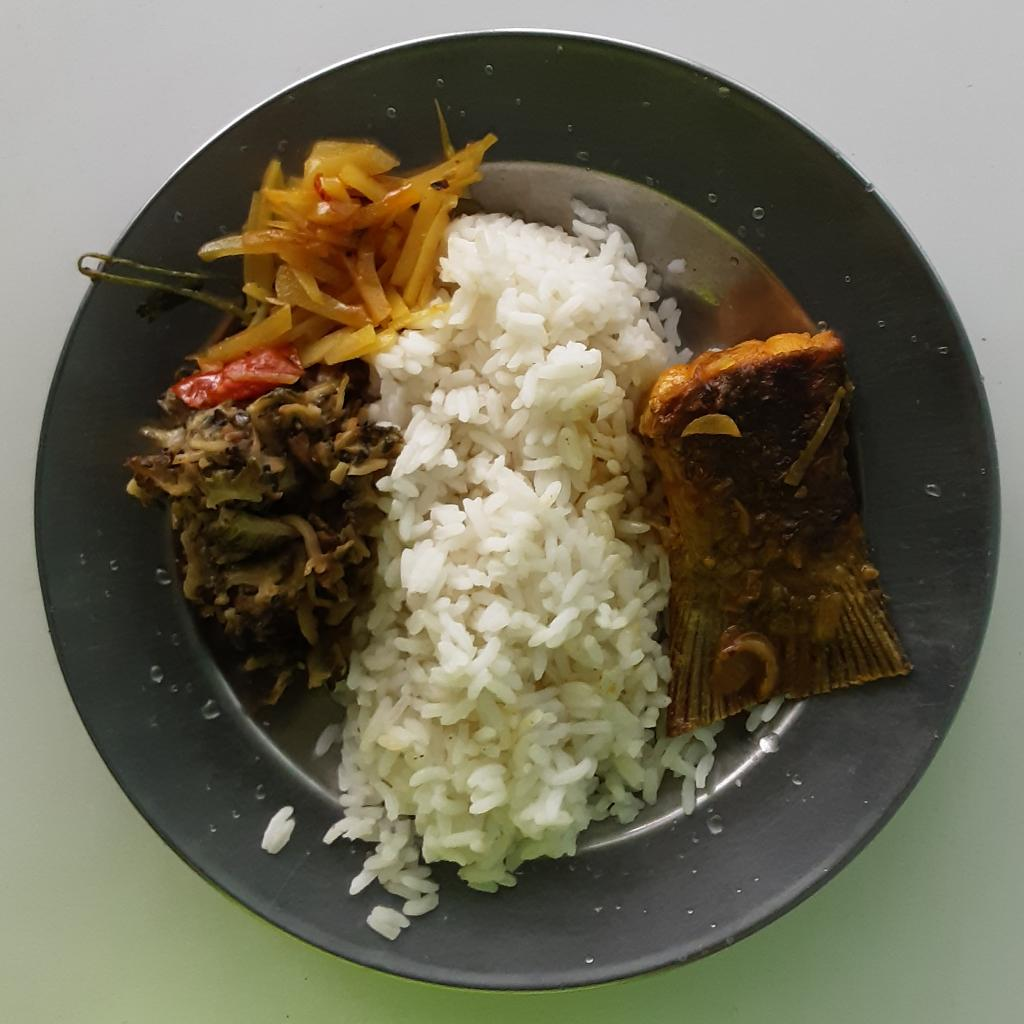fish: (638, 334, 912, 738)
korola-vaji: (127, 360, 411, 709)
potato: (181, 135, 497, 408)
rice: (310, 196, 722, 950), (250, 807, 298, 853)
